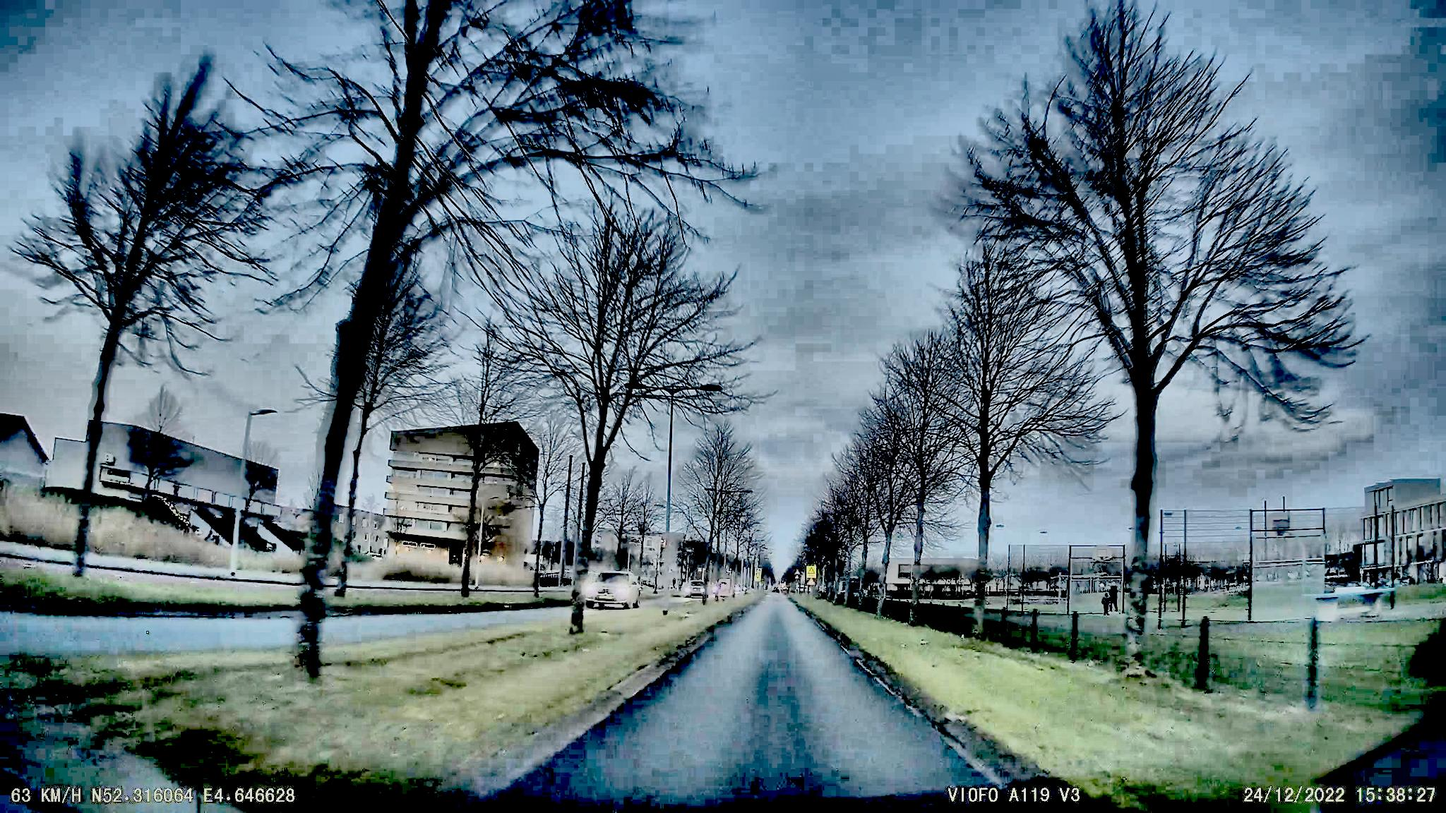Roads: (482, 597, 1026, 813)
